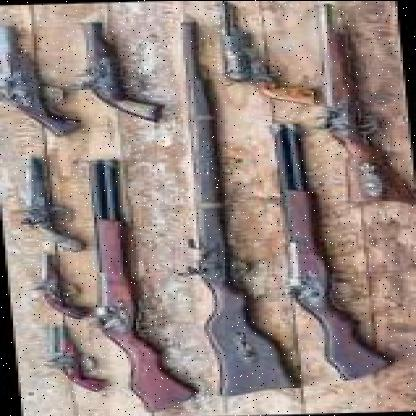rifle: (162, 17, 262, 395), (76, 158, 178, 410)
